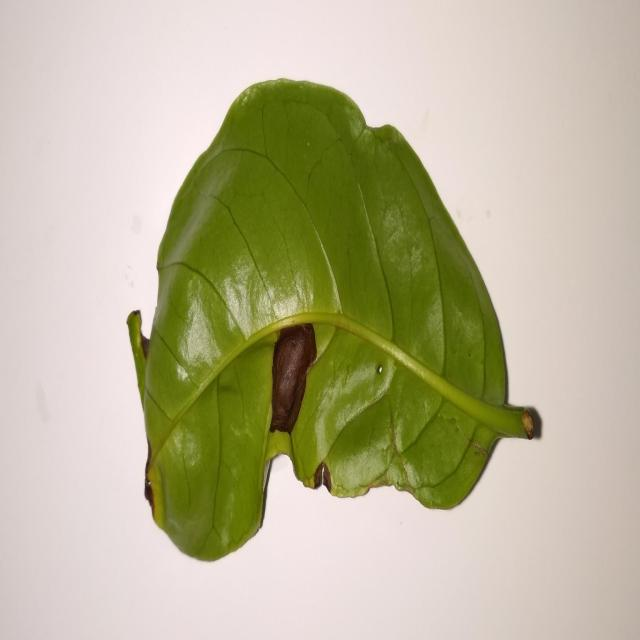Enfermedad-Antracnosis: (127, 79, 542, 565)
